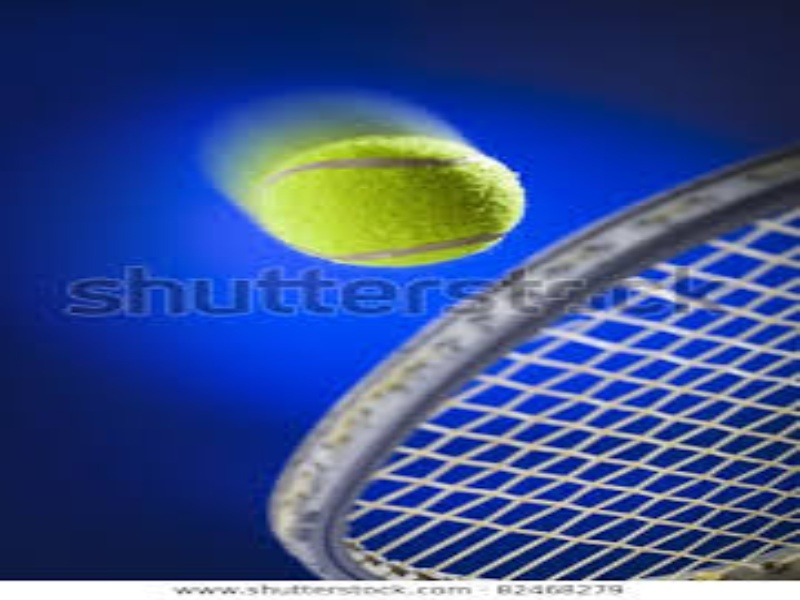tennis ball: (235, 116, 548, 271)
